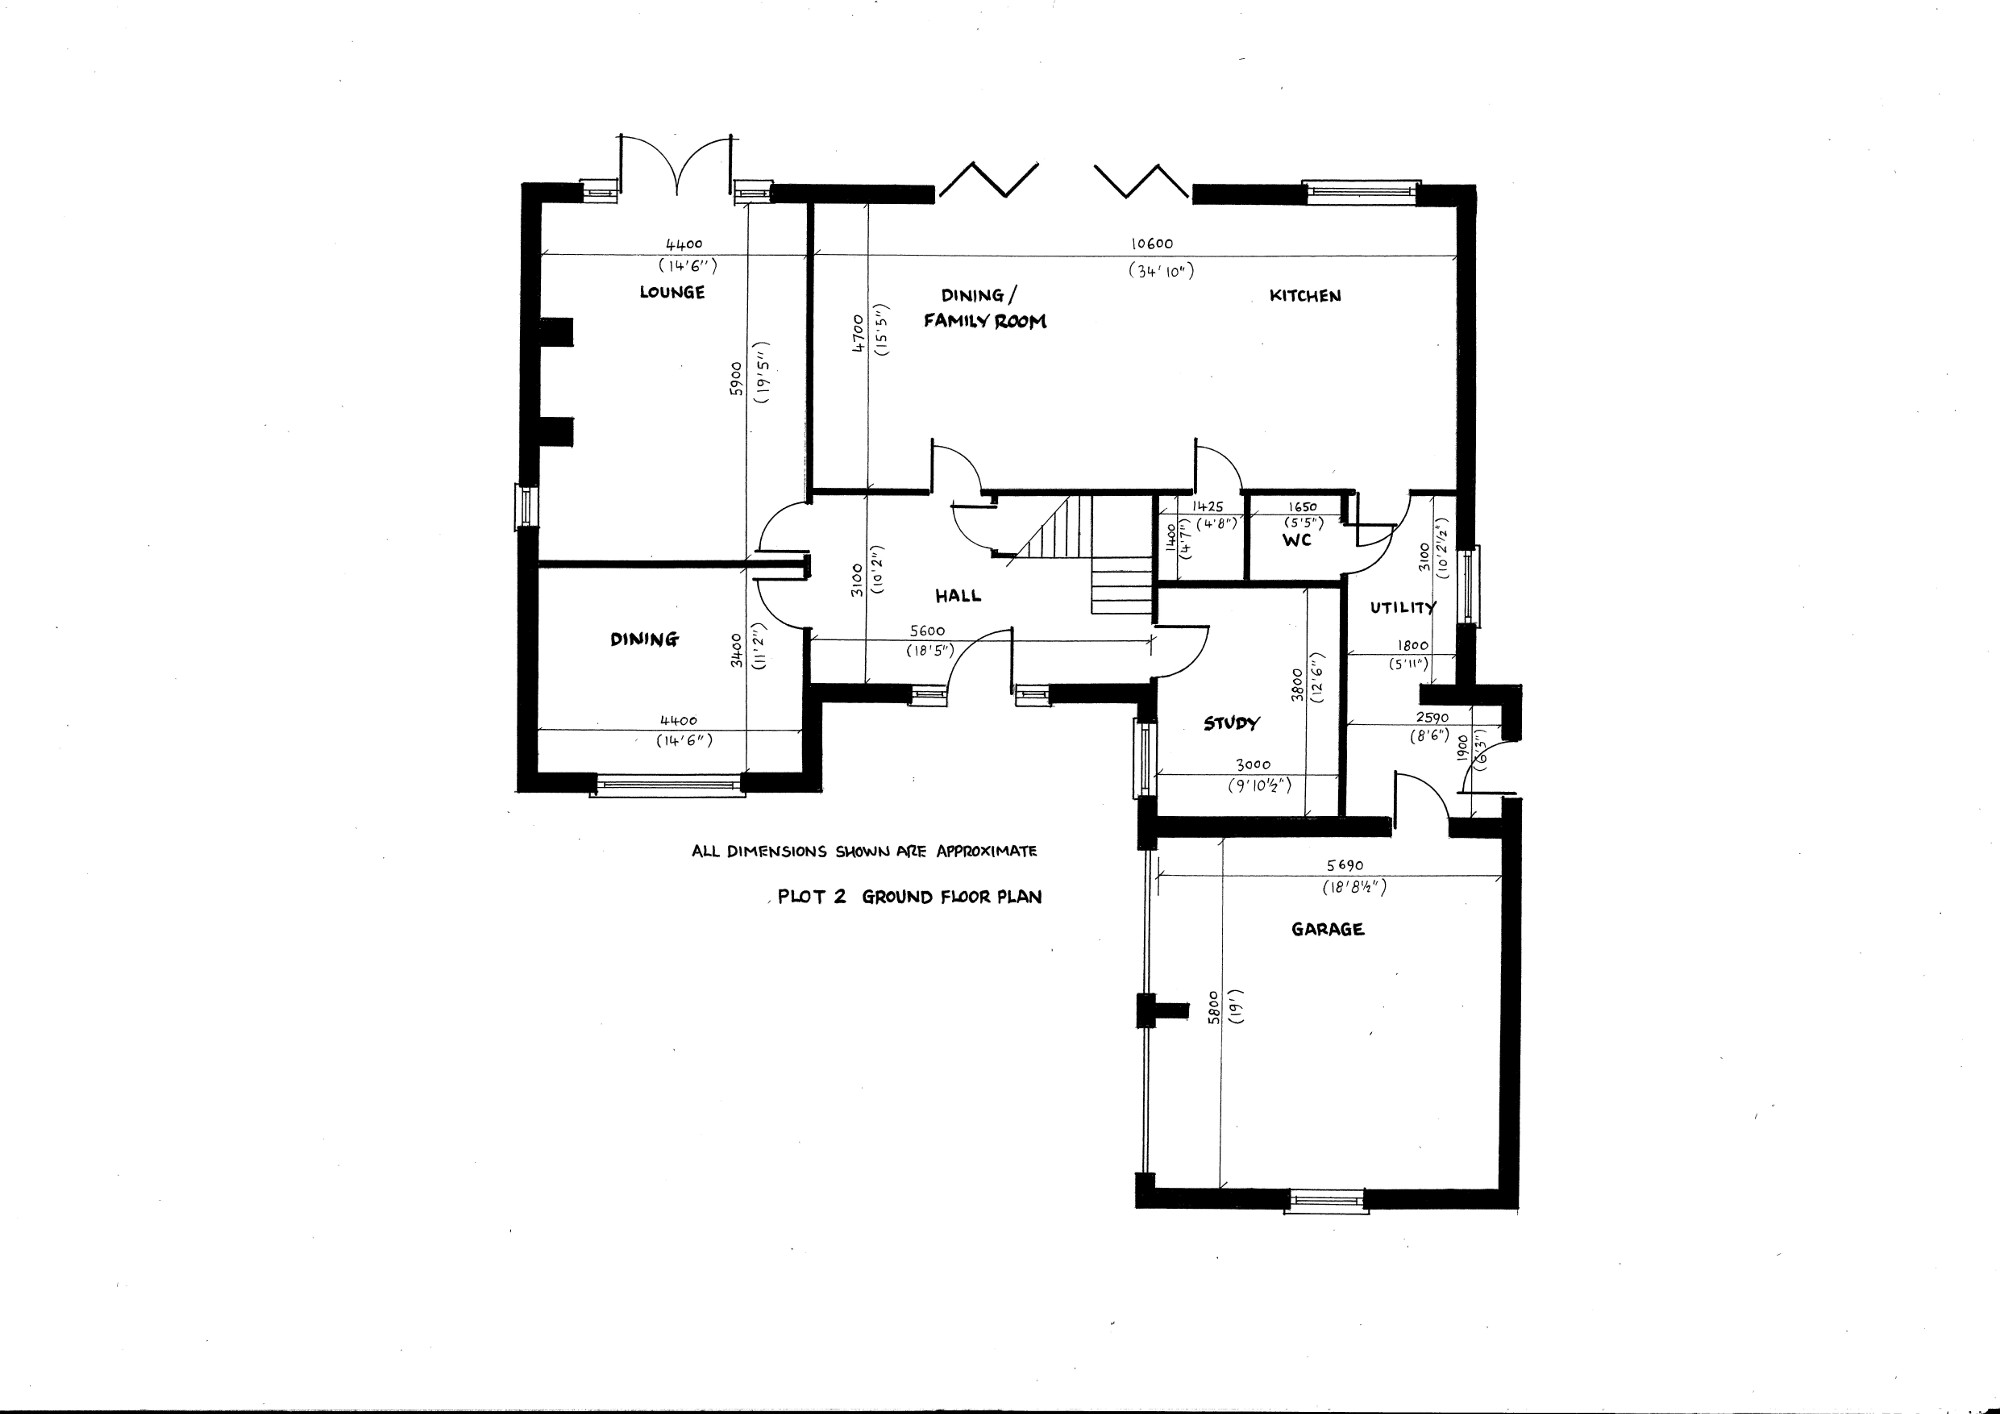wall: (1497, 803, 1518, 1207), (516, 529, 542, 790), (522, 554, 813, 574), (1138, 816, 1399, 836), (1138, 1175, 1290, 1209), (1458, 181, 1472, 548), (520, 190, 536, 481), (768, 174, 929, 202), (1366, 1188, 1526, 1214), (803, 202, 816, 491), (1051, 673, 1164, 704), (989, 481, 1201, 494), (1419, 678, 1527, 704), (1197, 178, 1305, 202), (794, 679, 901, 702), (797, 679, 820, 780), (1445, 813, 1518, 842), (519, 767, 594, 794), (1135, 666, 1164, 722), (1419, 178, 1472, 207), (1340, 580, 1347, 832), (520, 415, 572, 444), (1497, 689, 1529, 735), (525, 317, 577, 344), (1454, 624, 1472, 702), (744, 771, 819, 790), (1148, 578, 1347, 585), (1246, 484, 1354, 494), (1135, 797, 1158, 848), (803, 485, 929, 494), (525, 184, 581, 204), (1244, 484, 1255, 588), (1138, 999, 1191, 1015), (1409, 484, 1472, 496), (1146, 583, 1158, 624), (1140, 989, 1152, 1025)
